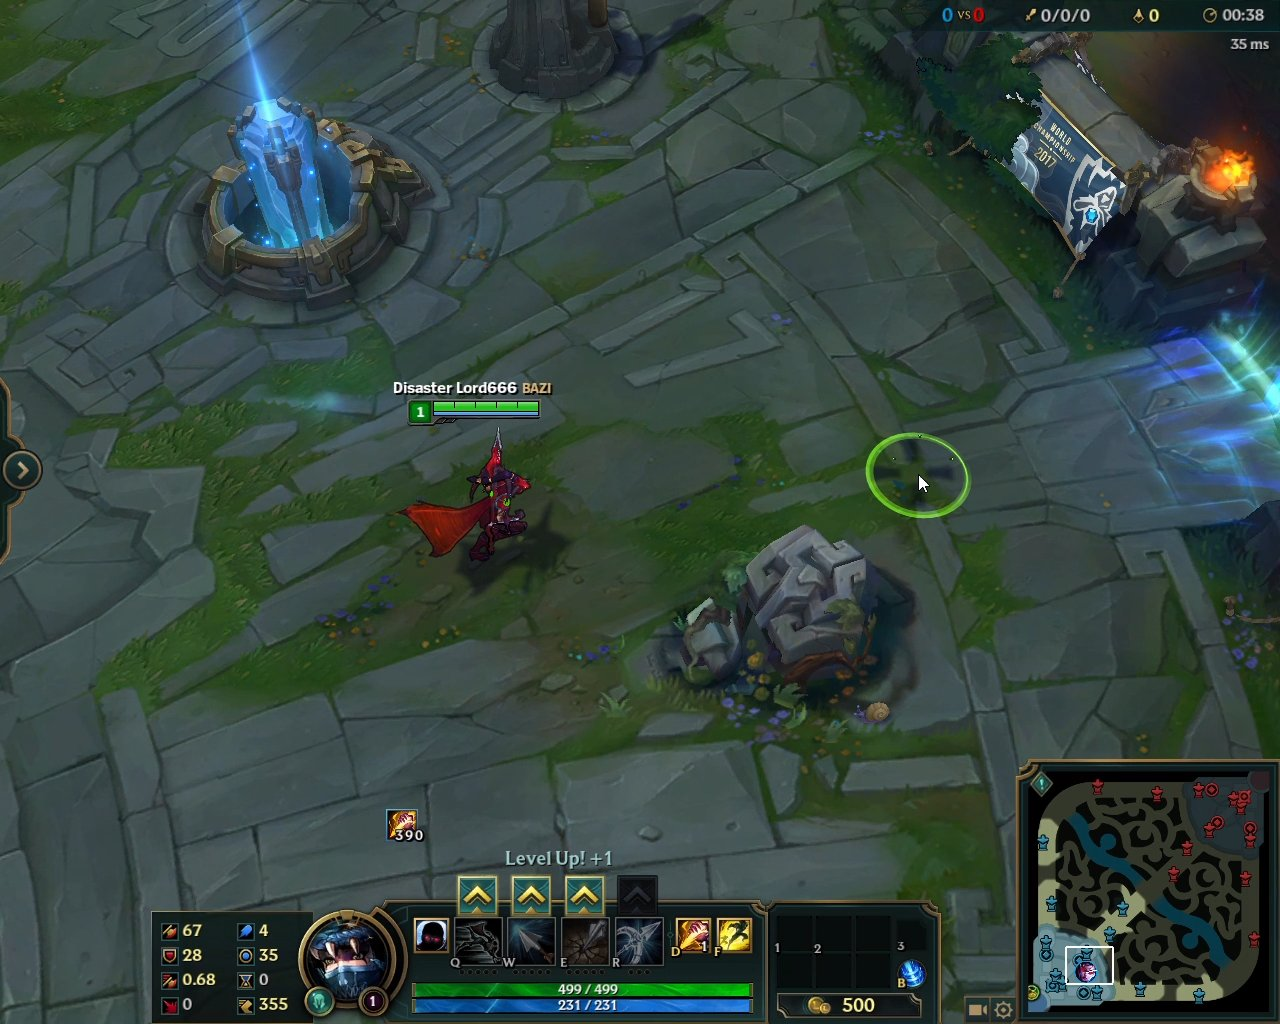Vayne: (398, 427, 538, 572)
